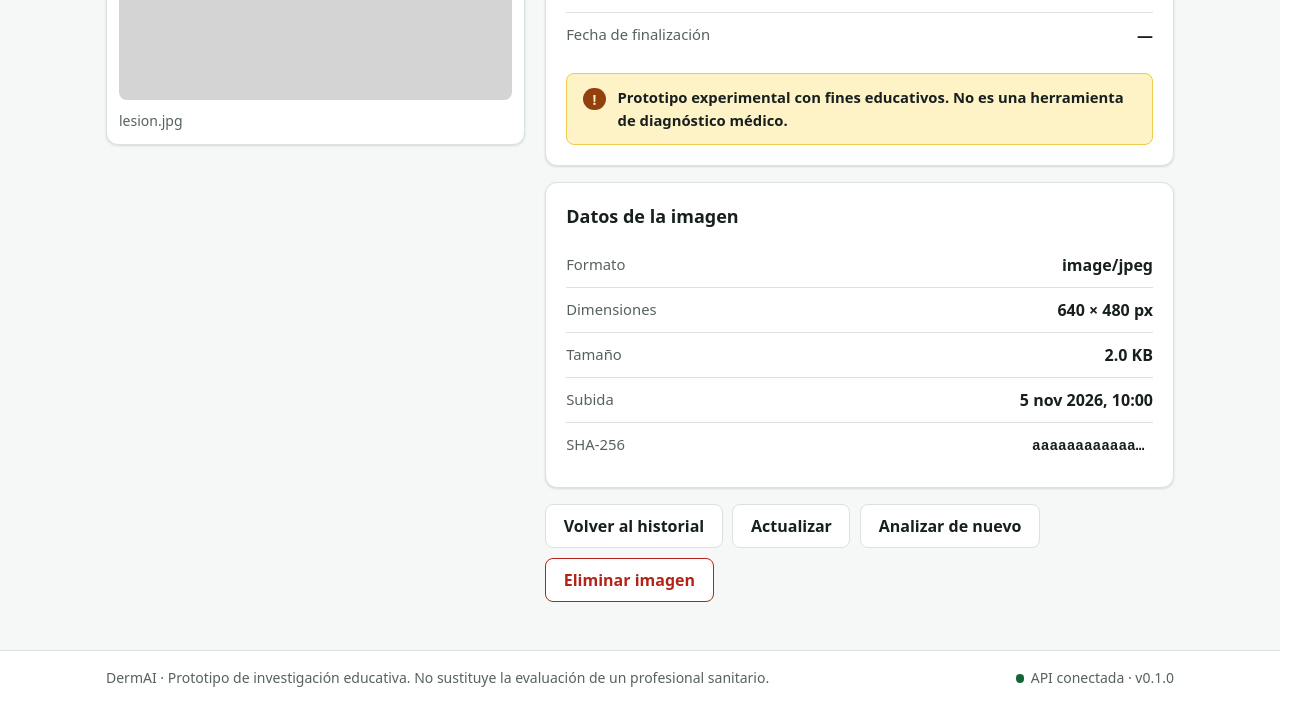
Test case: AnalysisPage › elimina la imagen tras confirmar y vuelve al historial
(page scrolled)
Click the button "Eliminar imagen".
click(629, 580)  # box [545,558,714,602]
(page scrolled)
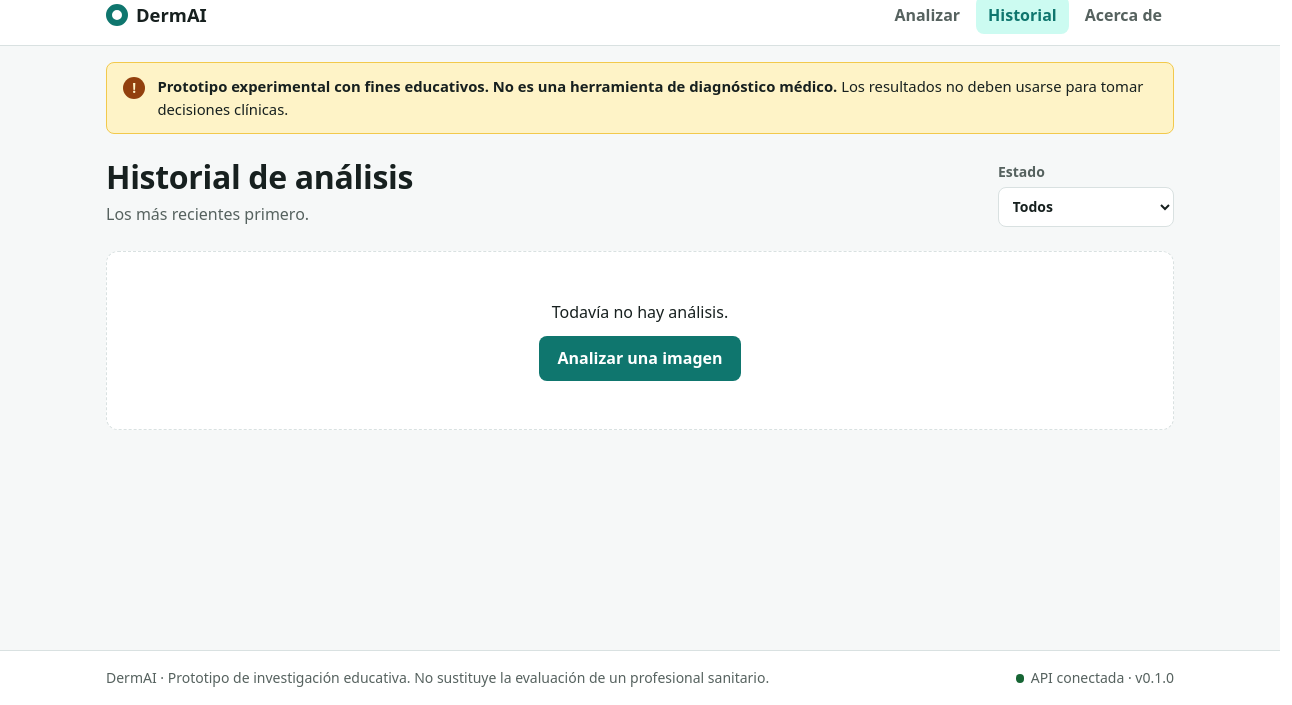
Result: the heading "Historial de análisis" is shown at [106,158,413,196]
